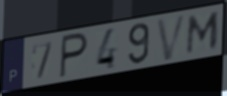4: (93, 27, 120, 72)
7: (30, 40, 54, 81)
9: (127, 21, 151, 66)
M: (184, 10, 222, 57)
P: (58, 31, 90, 81)
V: (155, 12, 189, 63)
